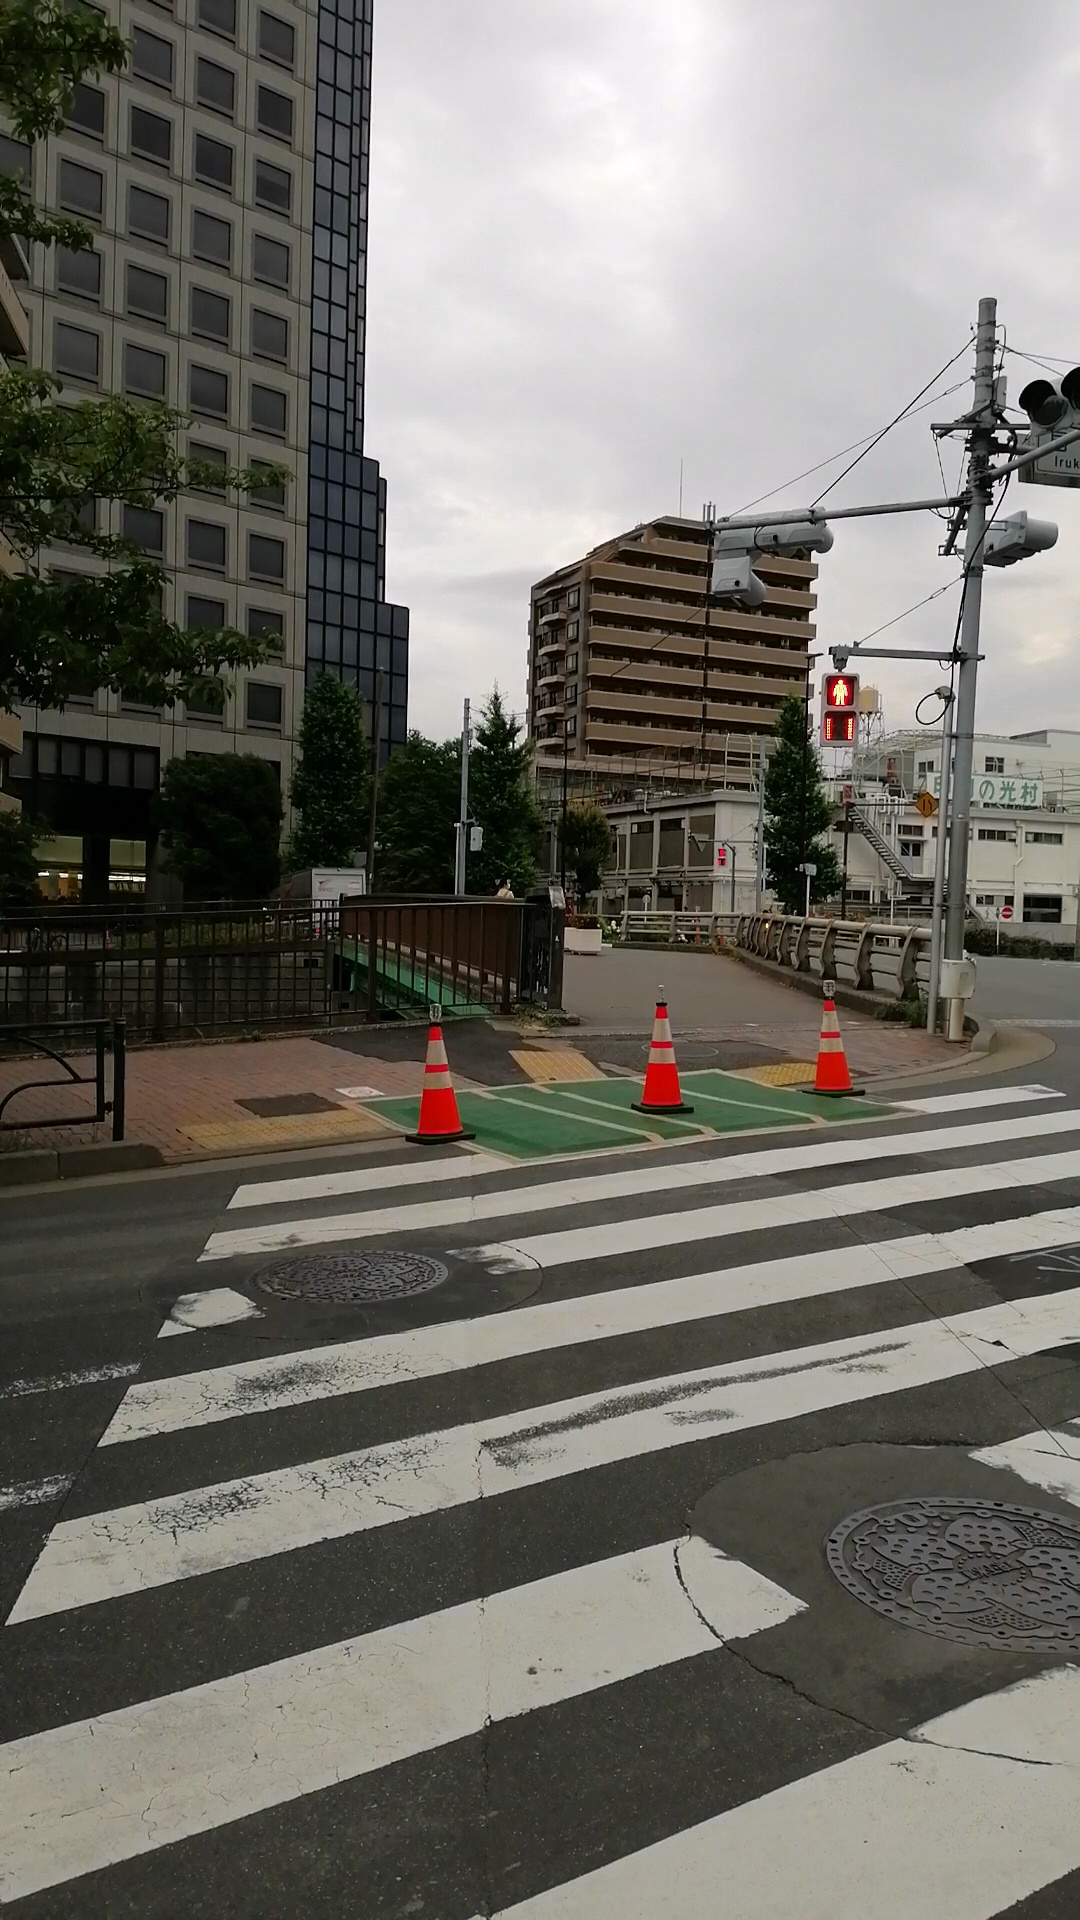red: (822, 673, 858, 748), (716, 847, 728, 866)
